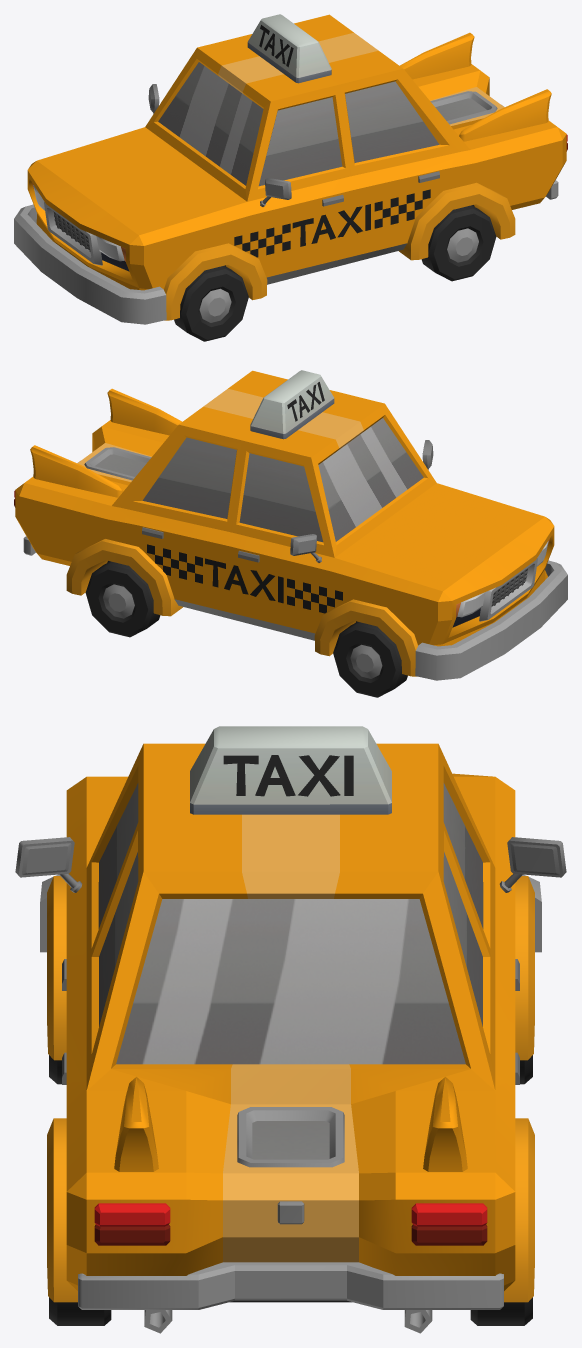
The model's file is Taxi_3.fbx.
3 renders of one model, top to bottom at view 1: azimuth 30°, elevation 25°; view 2: azimuth 150°, elevation 25°; view 3: azimuth 270°, elevation 25°, orthographic. The views are drawn at different scales.
Visible parts, largest first — view 1: Taxi_3, FL, RL; view 2: Taxi_3, FR, RR; view 3: Taxi_3, RL, RR.
Boxes of the visible parts, left/top/right/bottom form: Taxi_3: left=14, top=14, right=567, bottom=324; FL: left=174, top=266, right=248, bottom=341; RL: left=421, top=205, right=496, bottom=281; Taxi_3: left=14, top=370, right=567, bottom=680; FR: left=333, top=622, right=407, bottom=697; RR: left=85, top=561, right=160, bottom=637; Taxi_3: left=15, top=726, right=566, bottom=1333; RL: left=49, top=1297, right=111, bottom=1325; RR: left=470, top=1297, right=532, bottom=1325.
Bounding box in the file's own units: 358 × 174 × 185.
